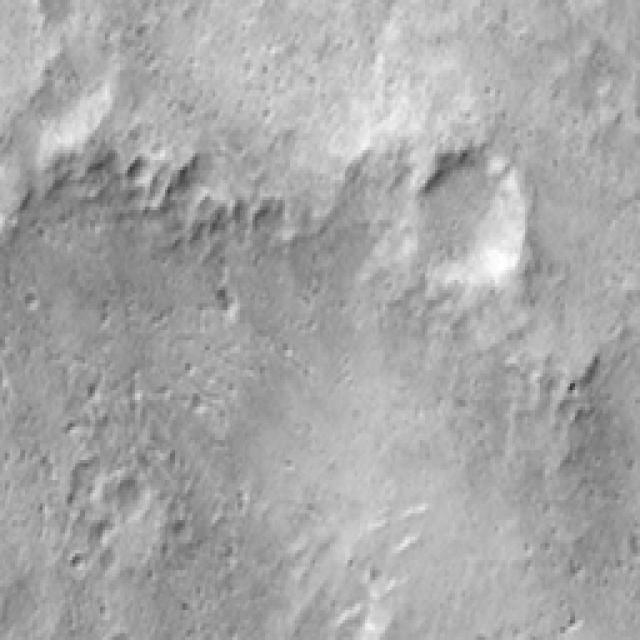Crater: (400, 126, 545, 316)
